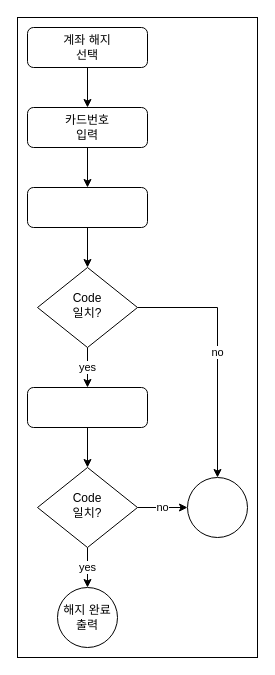
Image size: 275x675. Some labels were removed from this diagram. The shapes that lost their labels are listed below. From the top down, each one's centre as x and y in pixels, then its label:
(87,207): 계좌번호 입력
(87,407): 해지 동의? 출력
(217,507): 해지 실패 출력
